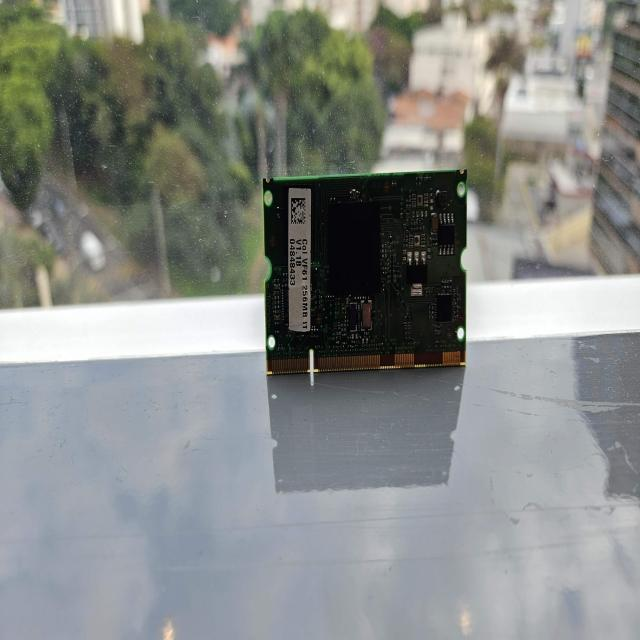som: (249, 162, 481, 382)
